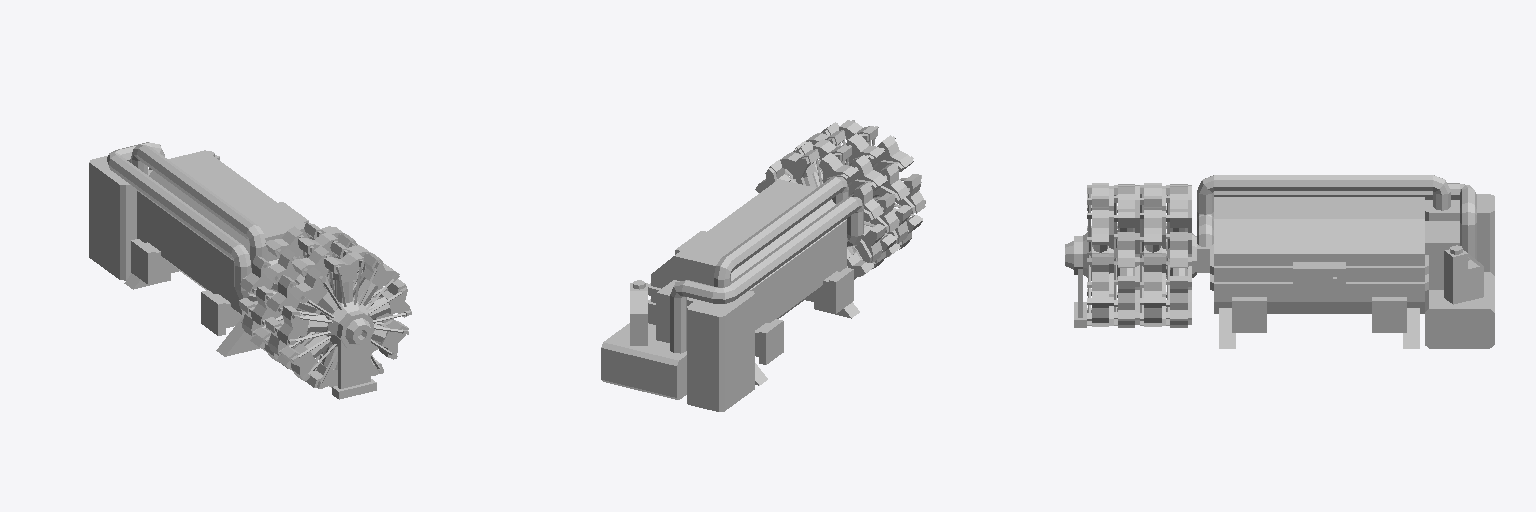
The model's file is combustion_engine.obj.
3 views of the same model, side by side, from view 1: azimuth 30°, elevation 25°; view 2: azimuth 150°, elevation 25°; view 3: azimuth 270°, elevation 25° (orthographic).
Parts seen in each view (by area): view 1: Engine; view 2: Engine, Canister; view 3: Engine, Canister, Hatch.
Part boxes in pixels (bbox=[...]): Engine: bbox=[89, 142, 411, 399]; Engine: bbox=[601, 120, 925, 411]; Canister: bbox=[630, 283, 647, 345]; Engine: bbox=[1065, 175, 1494, 348]; Canister: bbox=[1444, 249, 1483, 304]; Hatch: bbox=[1298, 273, 1340, 296].
Size of the model in its own units: 2.09 by 2.05 by 6.12.